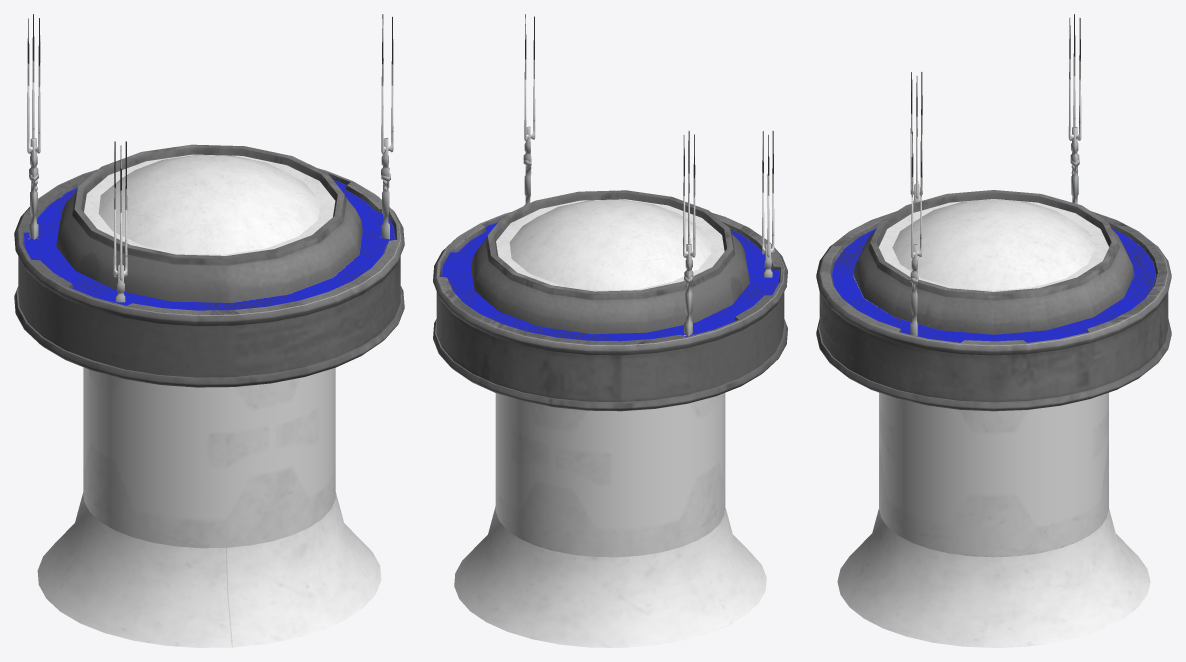
The model's file is ME_Huge_Tower.fbx.
3 renders of one model, left to right at view 1: azimuth 30°, elevation 25°; view 2: azimuth 150°, elevation 25°; view 3: azimuth 270°, elevation 25°, orthographic. The views are drawn at different scales.
Parts seen in each view (by area): view 1: ME_Huge_Tower; view 2: ME_Huge_Tower; view 3: ME_Huge_Tower.
Boxes of the visible parts, box(x1,y1,x2,y2) form: ME_Huge_Tower: box(14, 14, 404, 647); ME_Huge_Tower: box(433, 14, 787, 647); ME_Huge_Tower: box(816, 14, 1171, 647).
Size of the model in its own units: 136 by 214 by 136.
